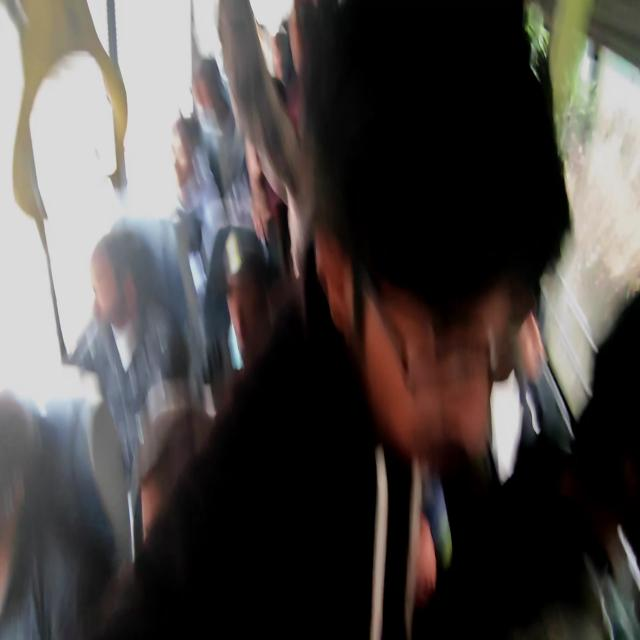person: (315, 58, 640, 451), (133, 432, 291, 640), (0, 436, 57, 634), (78, 247, 139, 358), (214, 244, 274, 350), (243, 105, 304, 187), (265, 23, 294, 82), (194, 85, 218, 114), (176, 146, 194, 182)
